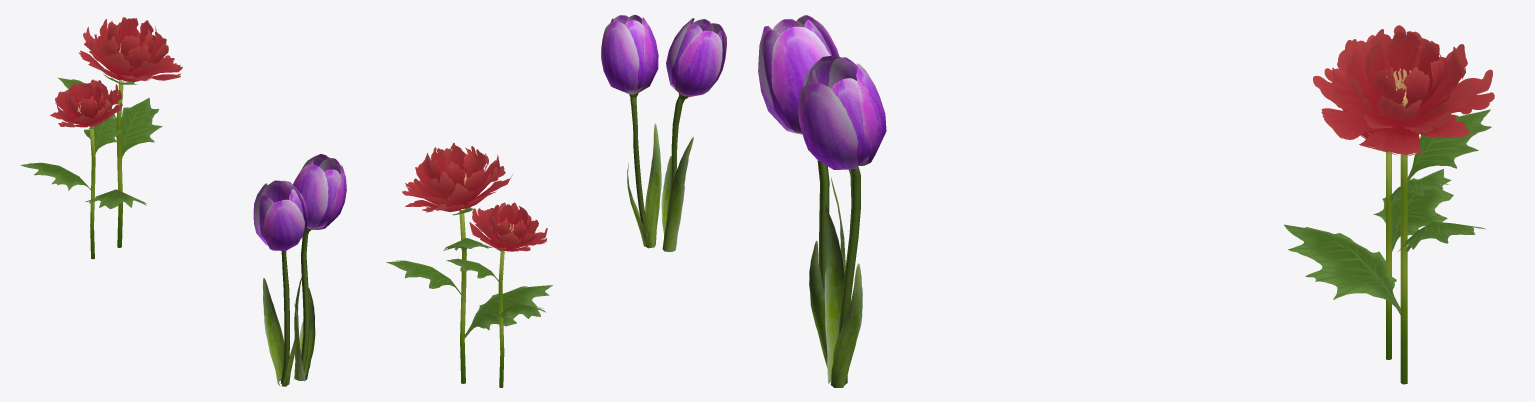
The model's file is tulip_flower.glb.
3 views of the same model, side by side, from view 1: azimuth 30°, elevation 25°; view 2: azimuth 150°, elevation 25°; view 3: azimuth 270°, elevation 25° (orthographic). The views are drawn at different scales.
Visible parts, largest first — view 1: chinese_rose, Cylinder.002, Cylinder.001, chinese_rose_small; view 2: chinese_rose, Cylinder.001, Cylinder.002, chinese_rose_small; view 3: chinese_rose, Cylinder.001, Cylinder.002, chinese_rose_small.
Boxes of the visible parts, bbox=[...] form: chinese_rose: bbox=[58, 17, 182, 247]; Cylinder.002: bbox=[253, 180, 307, 386]; Cylinder.001: bbox=[293, 154, 346, 381]; chinese_rose_small: bbox=[20, 79, 122, 259]; chinese_rose: bbox=[386, 143, 552, 383]; Cylinder.001: bbox=[601, 15, 661, 248]; Cylinder.002: bbox=[661, 18, 726, 251]; chinese_rose_small: bbox=[446, 202, 547, 387]; chinese_rose: bbox=[1284, 25, 1494, 384]; Cylinder.001: bbox=[798, 56, 886, 387]; Cylinder.002: bbox=[758, 15, 845, 367]; chinese_rose_small: bbox=[1342, 108, 1453, 359].
Bounding box in the file's own units: 2.18 × 2.74 × 5.32.
Materials: 3 (3 with a texture image).
